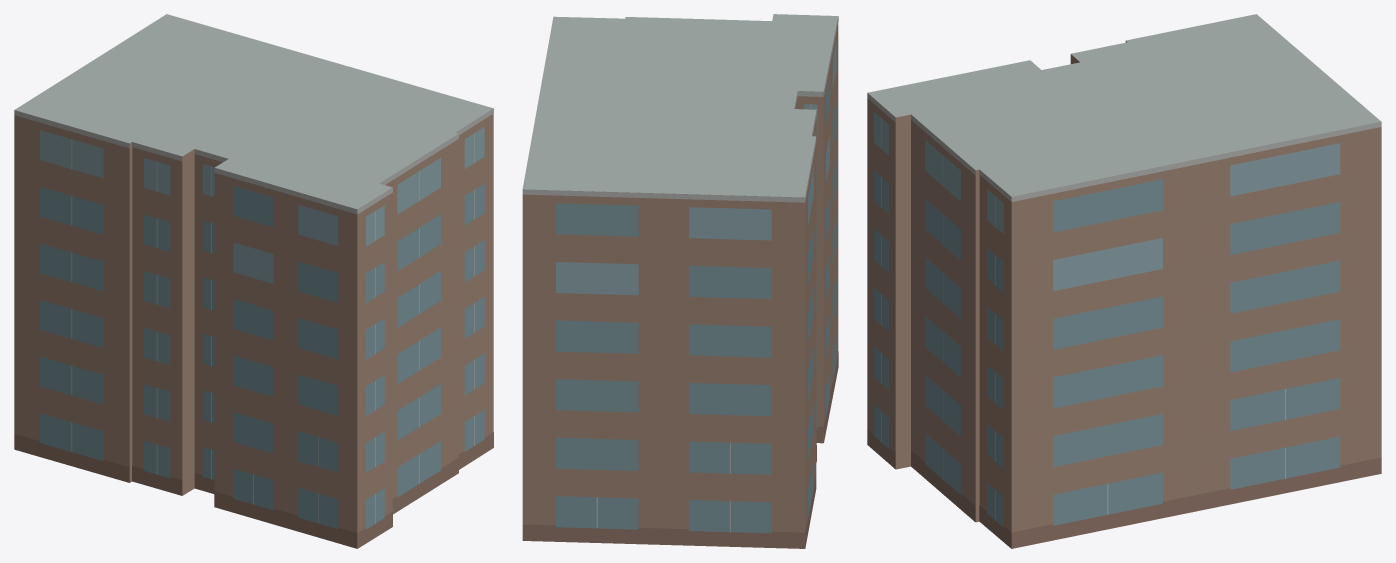
The model's file is survey-upis-32701407.glb.
The picture shows the model from 3 angles, left to right: view 1: azimuth 30°, elevation 25°; view 2: azimuth 150°, elevation 25°; view 3: azimuth 270°, elevation 25°; orthographic projection. The views are drawn at different scales.
Visible parts, largest first — view 1: survey-upis-32701407.tmp; view 2: survey-upis-32701407.tmp; view 3: survey-upis-32701407.tmp.
Boxes of the visible parts, x1,y1,x2,y2 form: survey-upis-32701407.tmp: (14,14,493,548); survey-upis-32701407.tmp: (522,14,838,548); survey-upis-32701407.tmp: (867,14,1381,548).
Bounding box in the file's own units: 18.39 × 16.5 × 21.85.
